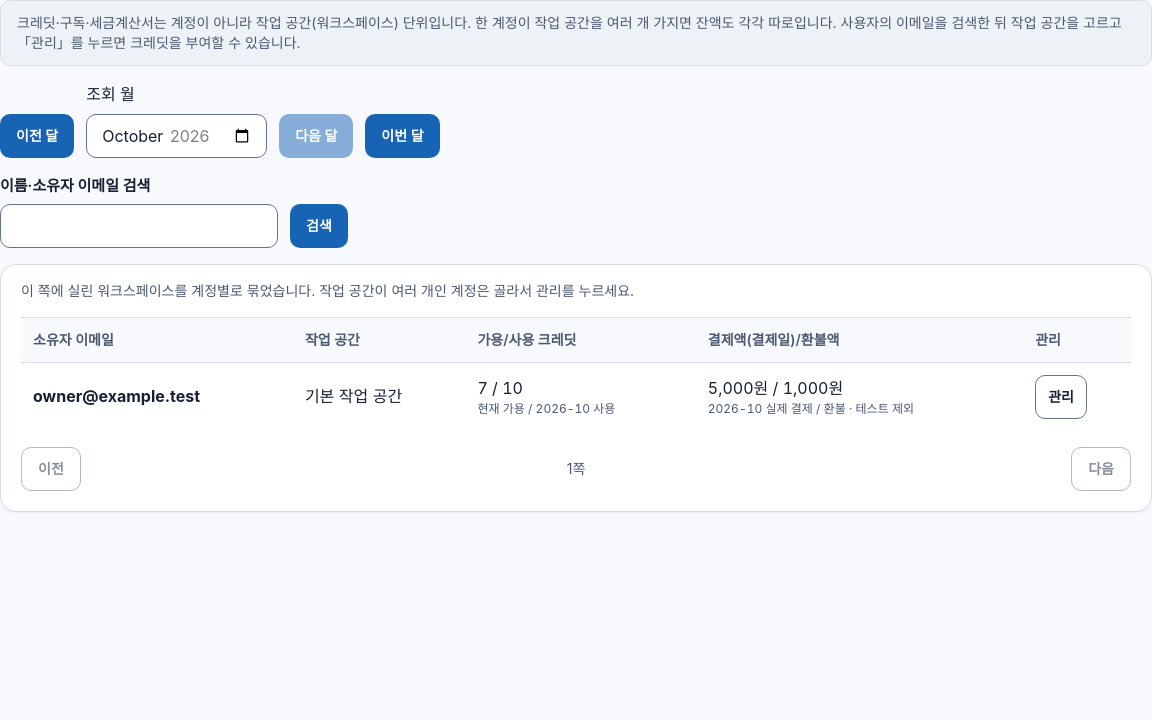
Test: 월별 관리자 작업공간 › 관리자는 production 가용성을 보지만 구매 버튼은 없다
This screenshot has width=1152, height=720.
Click the button "관리". click: (1061, 397)
box: [1035,375,1087,419]
(page scrolled)
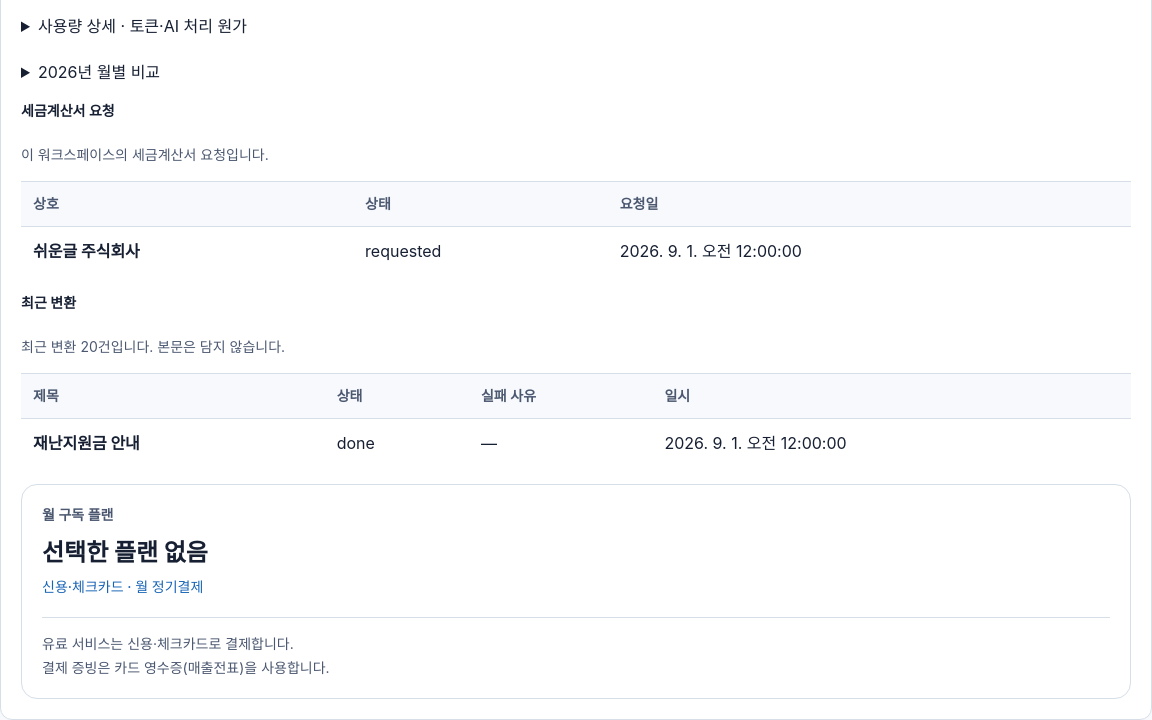
Expected: the text "선택한 플랜 없음" is shown, [42,538,208,567]
